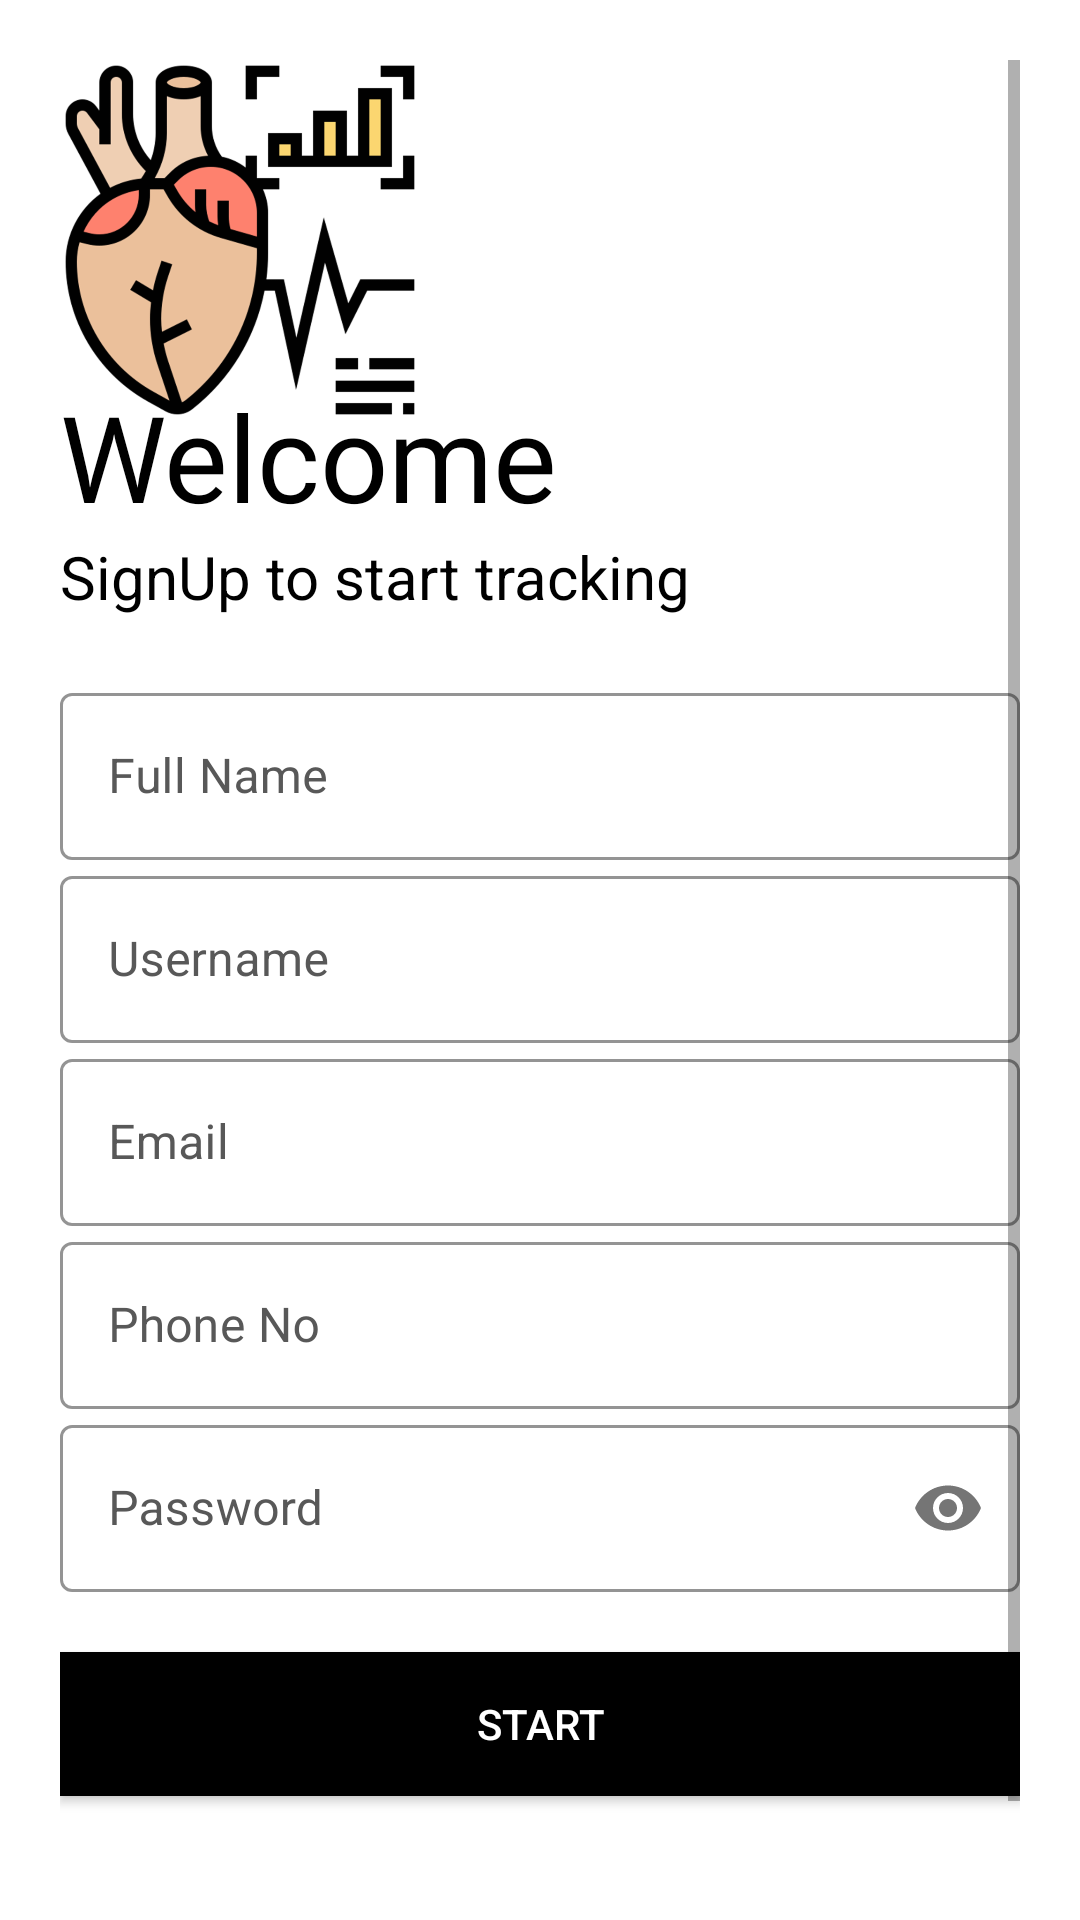

Icon bounding boxes for this 1080x1920 phone screenshot, format (x1, y1, x2, y2):
view for App main icon: (65, 65, 415, 415)
